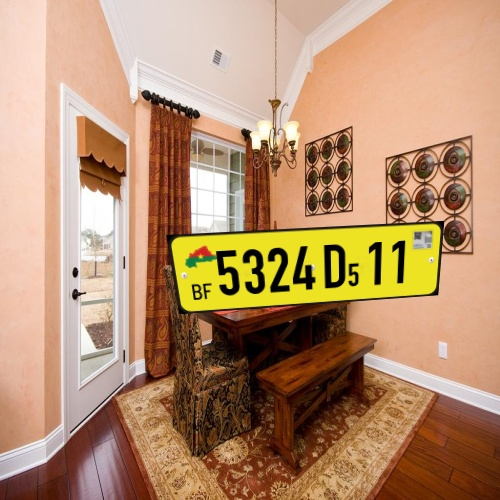plate: (149, 219, 446, 322)
